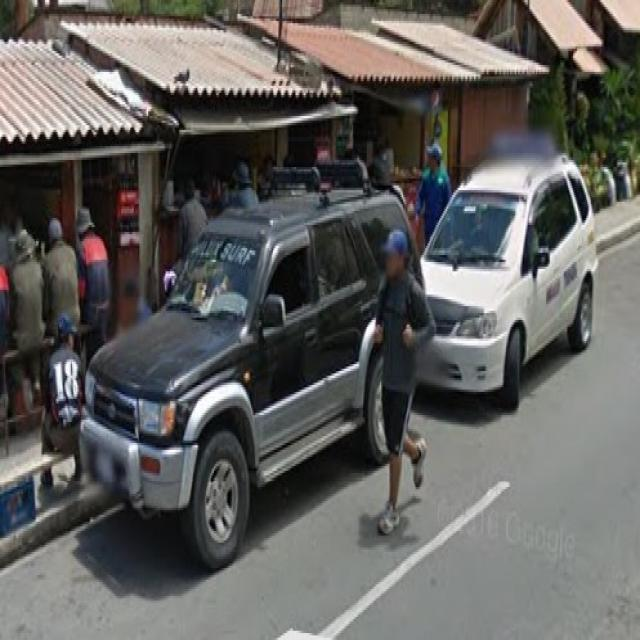truck: (89, 196, 412, 548), (429, 146, 602, 414)
